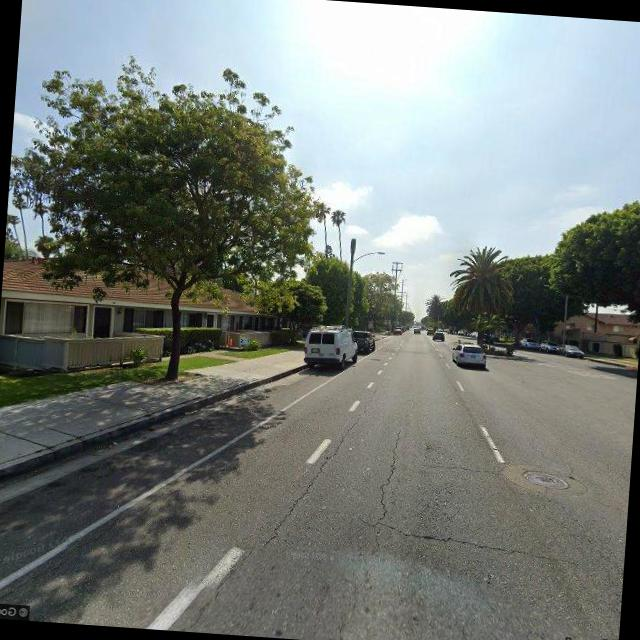crack: (260, 400, 369, 554), (371, 516, 581, 564), (372, 419, 408, 534), (418, 455, 504, 478)
